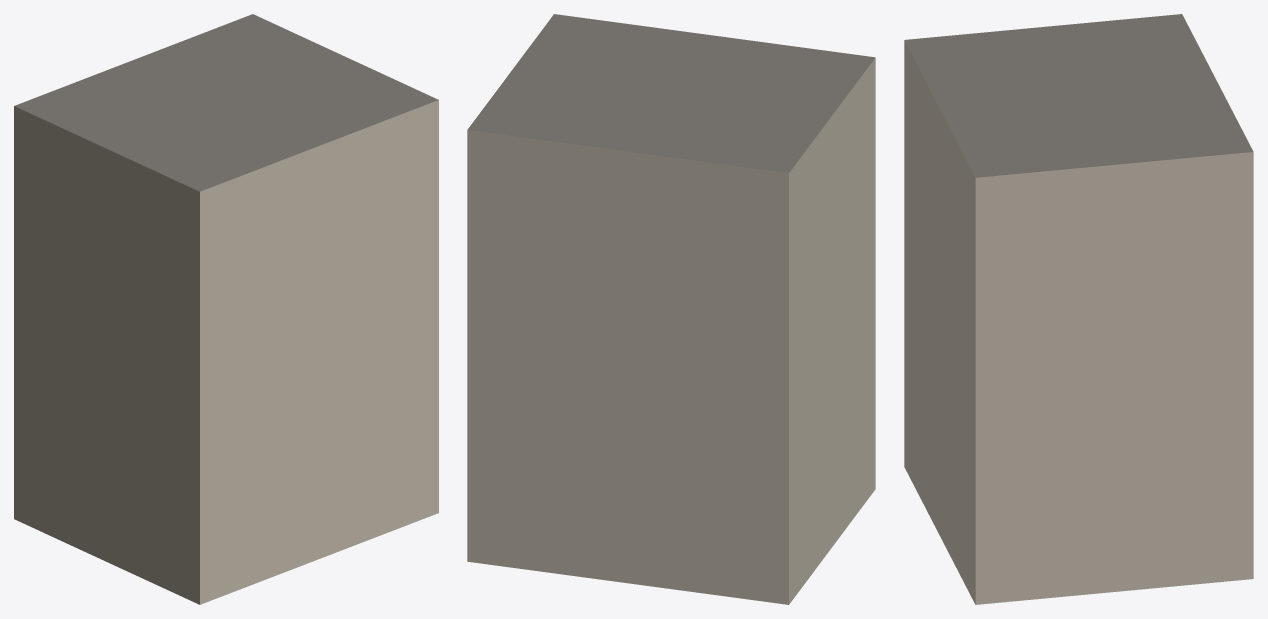
The picture shows the model from 3 angles, left to right: view 1: azimuth 30°, elevation 25°; view 2: azimuth 150°, elevation 25°; view 3: azimuth 270°, elevation 25°; orthographic projection. The views are drawn at different scales.
Parts seen in each view (by area): view 1: HP-w378107176; view 2: HP-w378107176; view 3: HP-w378107176.
Boxes of the visible parts, bbox=[...] form: HP-w378107176: bbox=[14, 14, 438, 604]; HP-w378107176: bbox=[467, 14, 875, 604]; HP-w378107176: bbox=[904, 14, 1253, 604].
Size of the model in its own units: 14.81 by 18 by 13.34.
